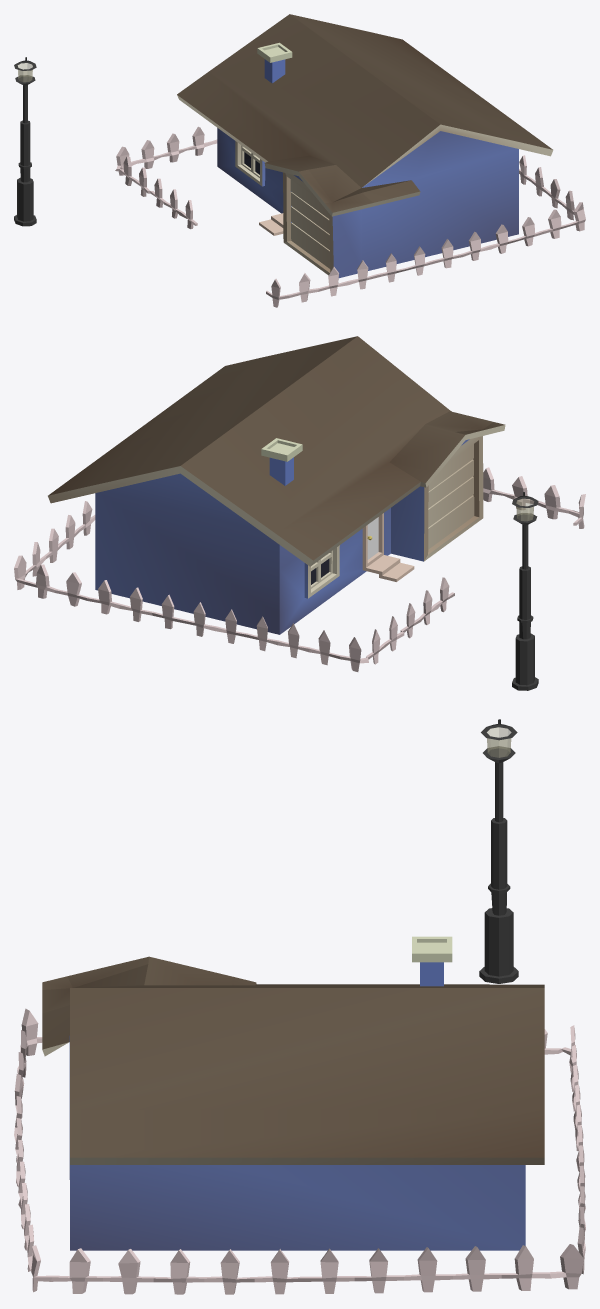
File: bluehouse.glb
3 renders of one model, top to bottom at view 1: azimuth 30°, elevation 25°; view 2: azimuth 150°, elevation 25°; view 3: azimuth 270°, elevation 25°, orthographic. The views are drawn at different scales.
Parts seen in each view (by area): view 1: Cube.001, Cube.004, Circle, Cube.002; view 2: Cube.001, Cube.004, Circle, Cube.003, Cube.002; view 3: Cube.001, Cube.004, Circle, Cube.002.
Boxes of the visible parts, x1,y1,x2,y2 form: Cube.001: [177, 14, 553, 278]; Cube.004: [115, 126, 585, 307]; Circle: [14, 57, 36, 226]; Cube.002: [257, 42, 292, 83]; Cube.001: [48, 336, 505, 634]; Cube.004: [14, 467, 585, 671]; Circle: [512, 492, 538, 690]; Cube.003: [362, 513, 414, 581]; Cube.002: [261, 438, 302, 485]; Cube.001: [42, 956, 544, 1250]; Cube.004: [14, 1008, 585, 1294]; Circle: [479, 719, 518, 983]; Cube.002: [412, 936, 452, 986].
Size of the model in its own units: 22.13 by 8.16 by 16.4.
